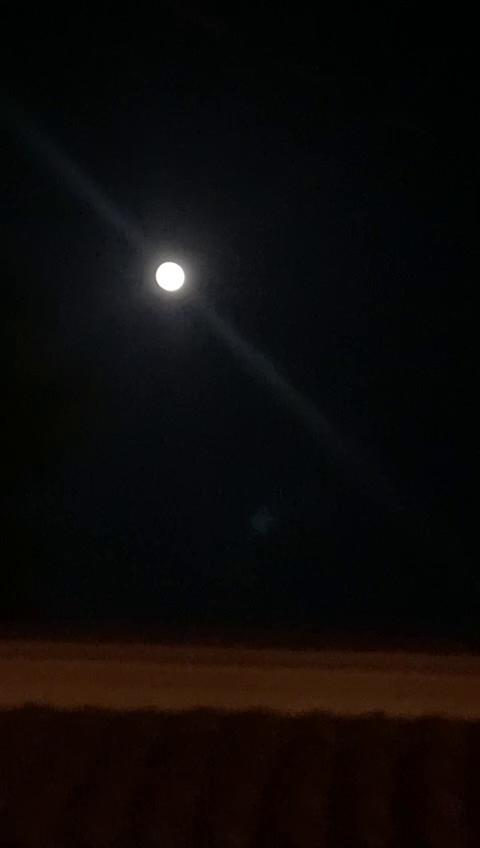moon: (153, 256, 193, 298)
